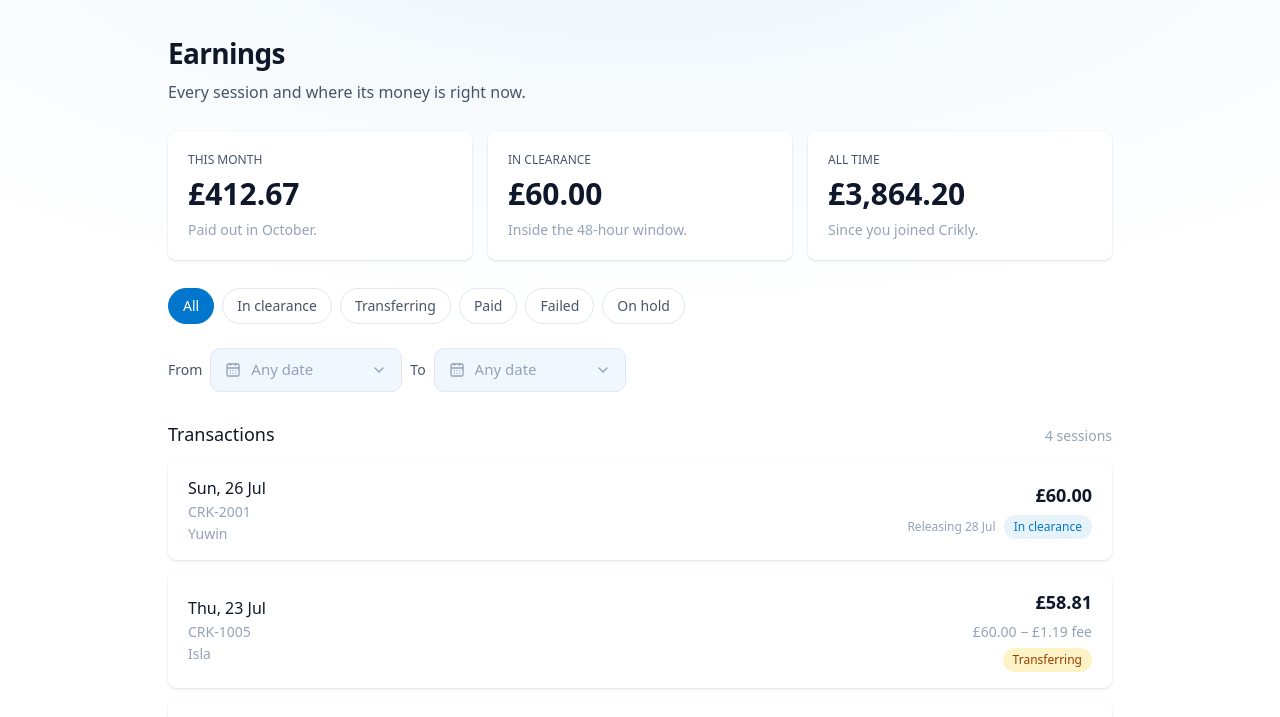
Test: Earnings — client-side filtering › shows the filter-aware empty state when nothing matches
The image size is (1280, 717).
Click the button "Failed" at [560, 306], box left=525, top=288, right=594, bottom=324
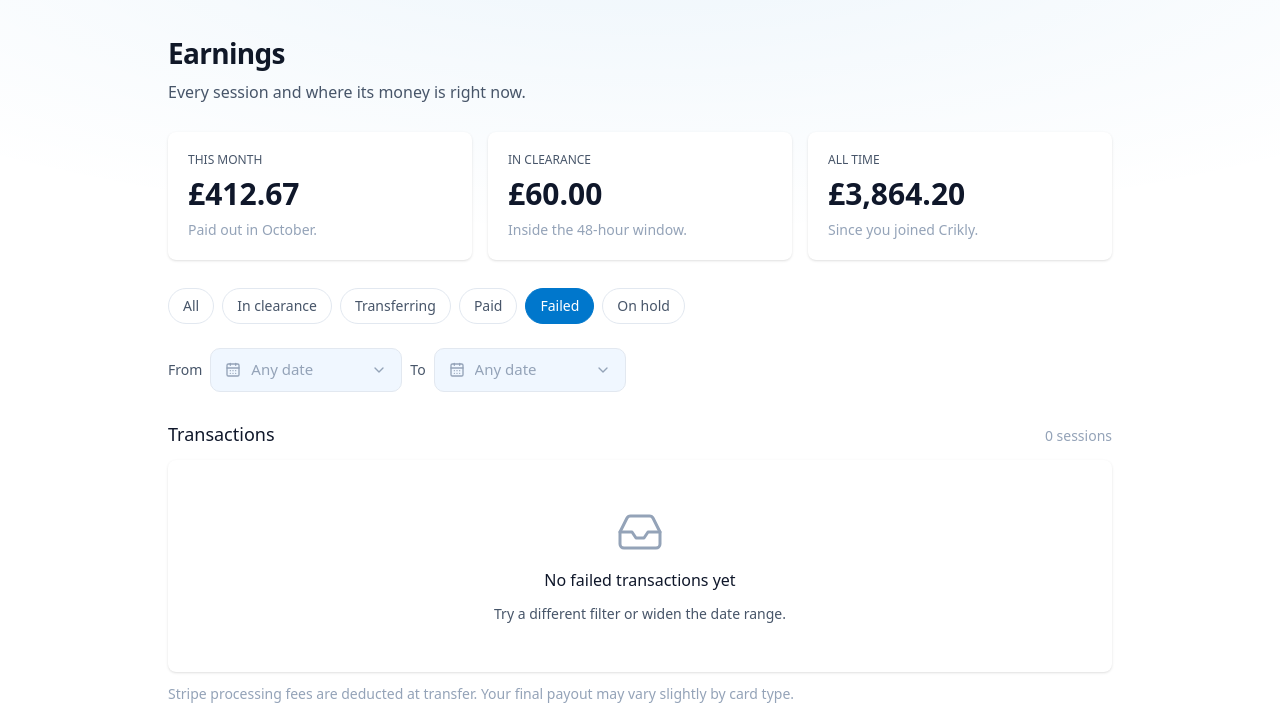
Now no elements with test id "transaction-row" are shown
Now the text "No failed transactions yet" is shown, box left=544, top=568, right=736, bottom=592
Now the text "Try a different filter or widen the date range." is shown, box left=494, top=604, right=786, bottom=624
